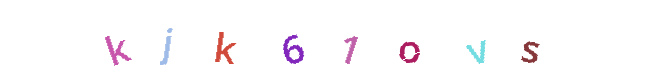1: (285, 0, 365, 80)
6: (252, 0, 332, 80)
J: (200, 0, 280, 80)
K: (188, 0, 268, 80), (244, 0, 324, 80)
O: (295, 0, 375, 80)
S: (490, 0, 570, 80)
V: (369, 0, 449, 80)
